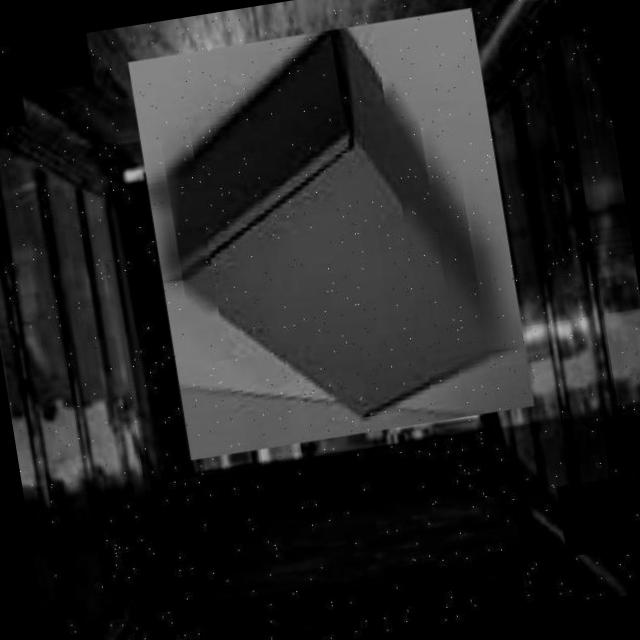box: (121, 0, 542, 467)
